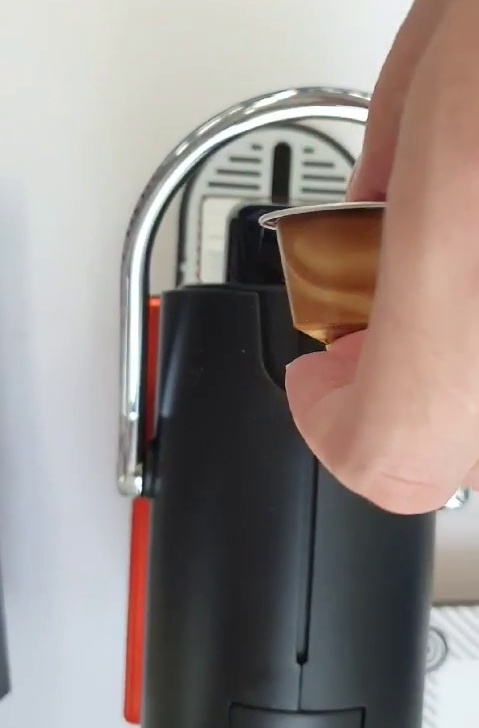capsule_12: (259, 196, 423, 356)
